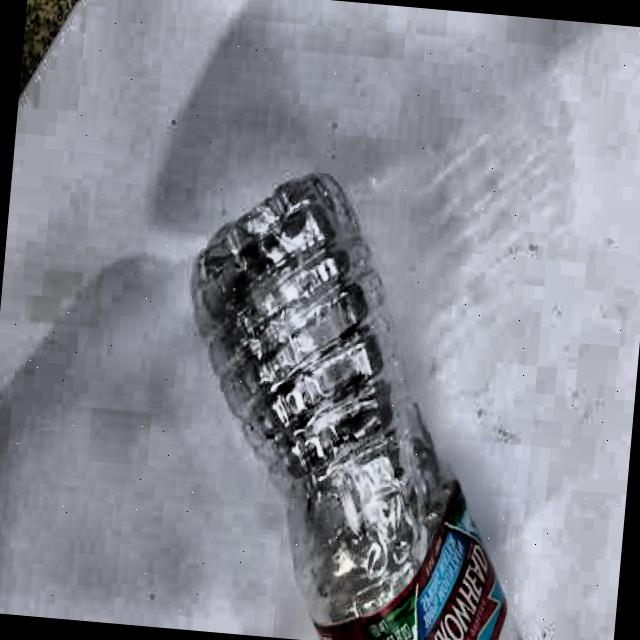plastic: (158, 166, 564, 640)
